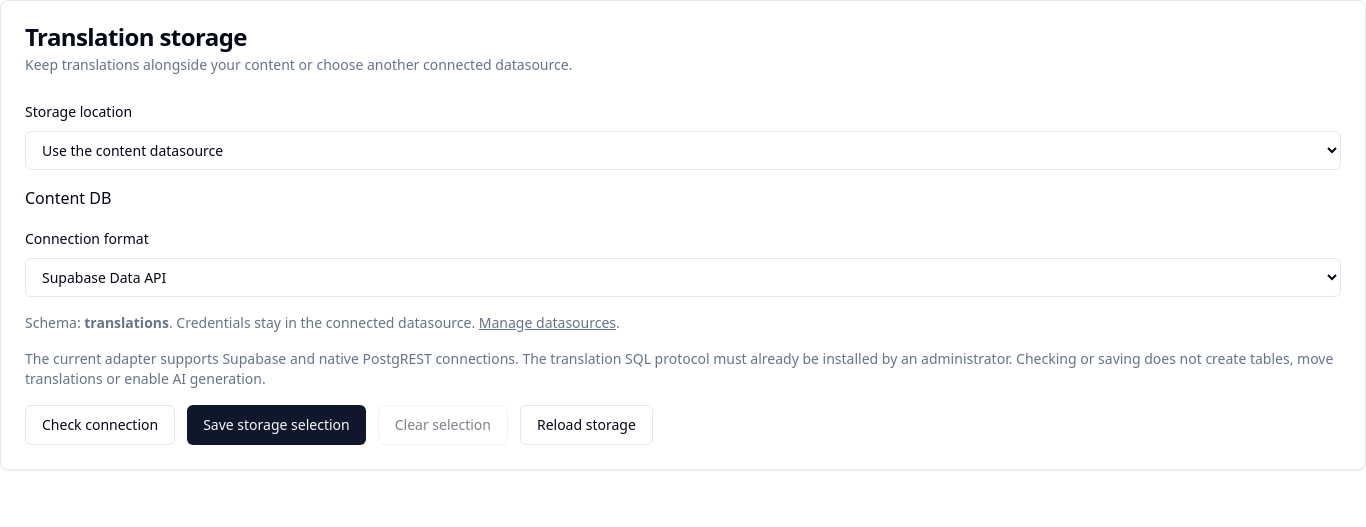
Translation storage settings › blocks an ambiguous save without discarding the selected datasource
This screenshot has width=1366, height=527.
Check: the text "Content DB" is shown, box x1=25 y1=187 x2=111 y2=209
Click the button "Save storage selection".
click(276, 425)  # box x1=187 y1=405 x2=366 y2=445
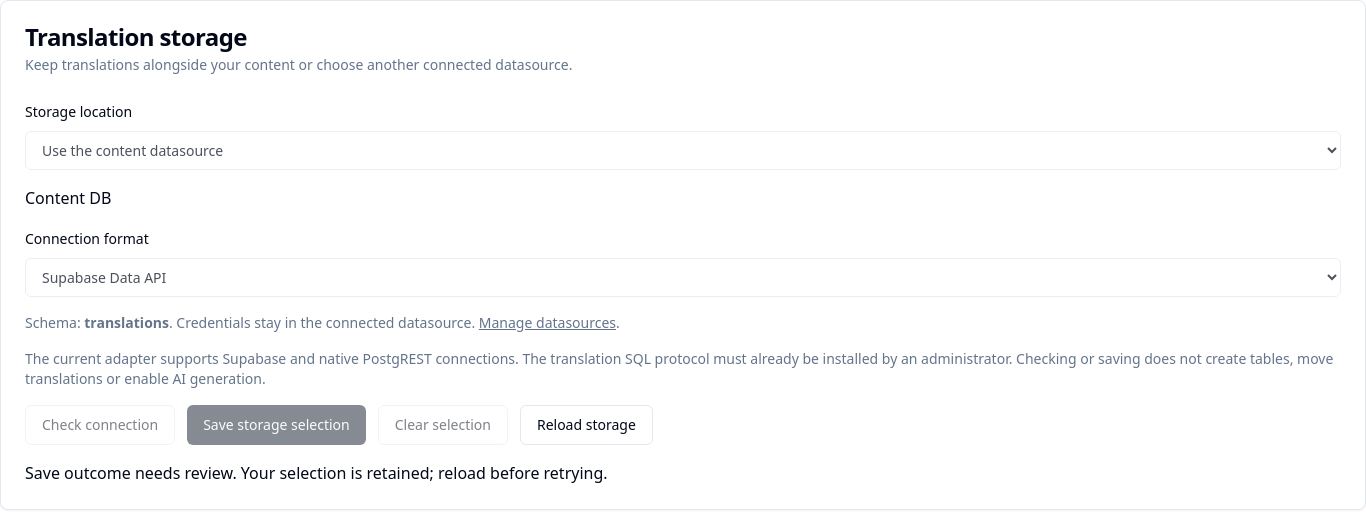
Check: the text "Save outcome needs review. Your selection is retained; reload before retrying." is shown, box x1=25 y1=462 x2=608 y2=484
Check: the button "Save storage selection" is disabled, box x1=187 y1=405 x2=366 y2=445
